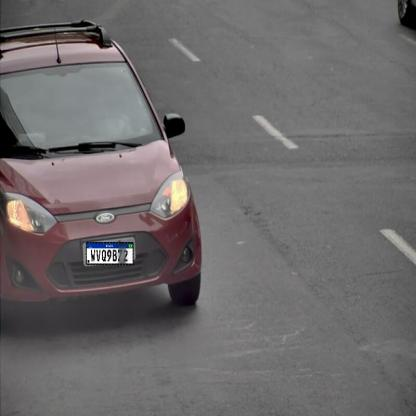PlacaM: (86, 242, 134, 265)
